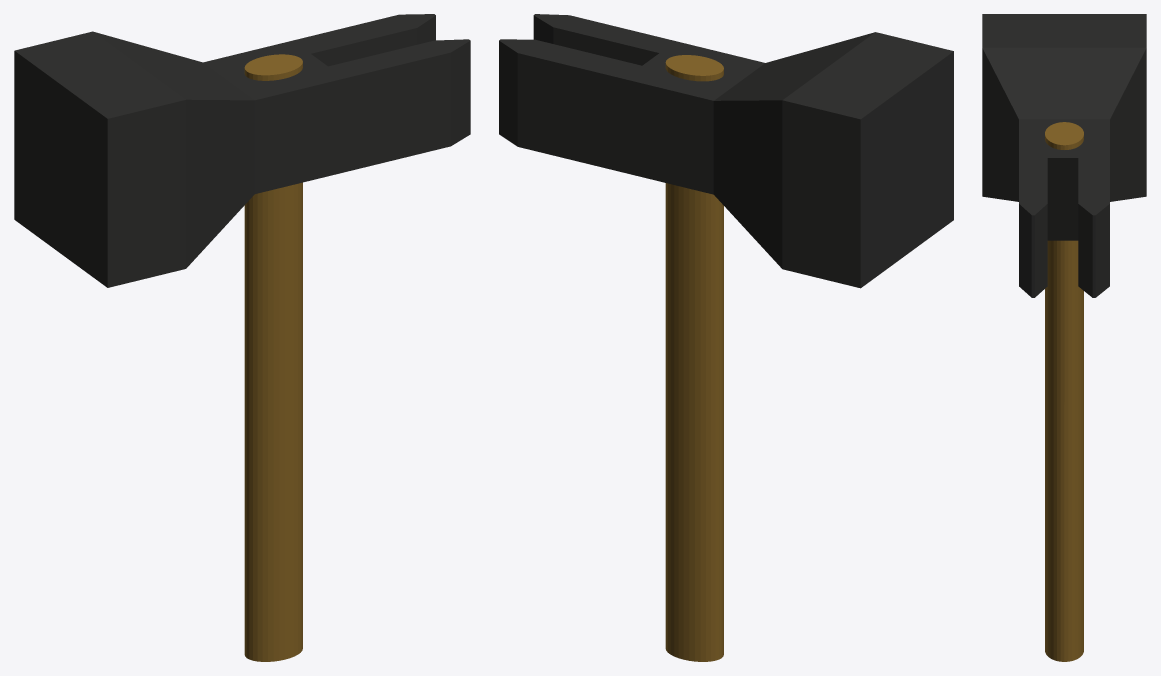
Rendered from hammer.fbx.
3 views of the same model, side by side, from view 1: azimuth 30°, elevation 25°; view 2: azimuth 150°, elevation 25°; view 3: azimuth 270°, elevation 25° (orthographic). The views are drawn at different scales.
Parts seen in each view (by area): view 1: Cube, Cylinder; view 2: Cube, Cylinder; view 3: Cube, Cylinder.
Part boxes in pixels (x1=…): Cube: x1=14, y1=14, x2=470, y2=287; Cylinder: x1=244, y1=54, x2=302, y2=661; Cube: x1=499, y1=14, x2=953, y2=288; Cylinder: x1=665, y1=55, x2=723, y2=661; Cube: x1=982, y1=14, x2=1146, y2=297; Cylinder: x1=1045, y1=122, x2=1083, y2=661.
Size of the model in its own units: 1449 by 2191 by 599.
